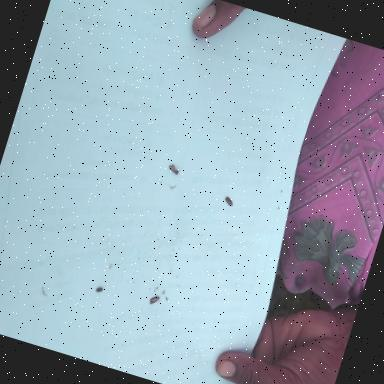pbw: (148, 292, 161, 306), (222, 196, 236, 206), (168, 164, 180, 174)
